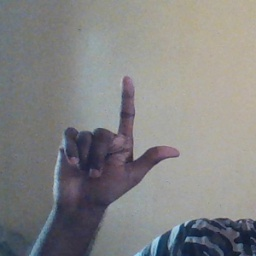L: (48, 74, 181, 209)
